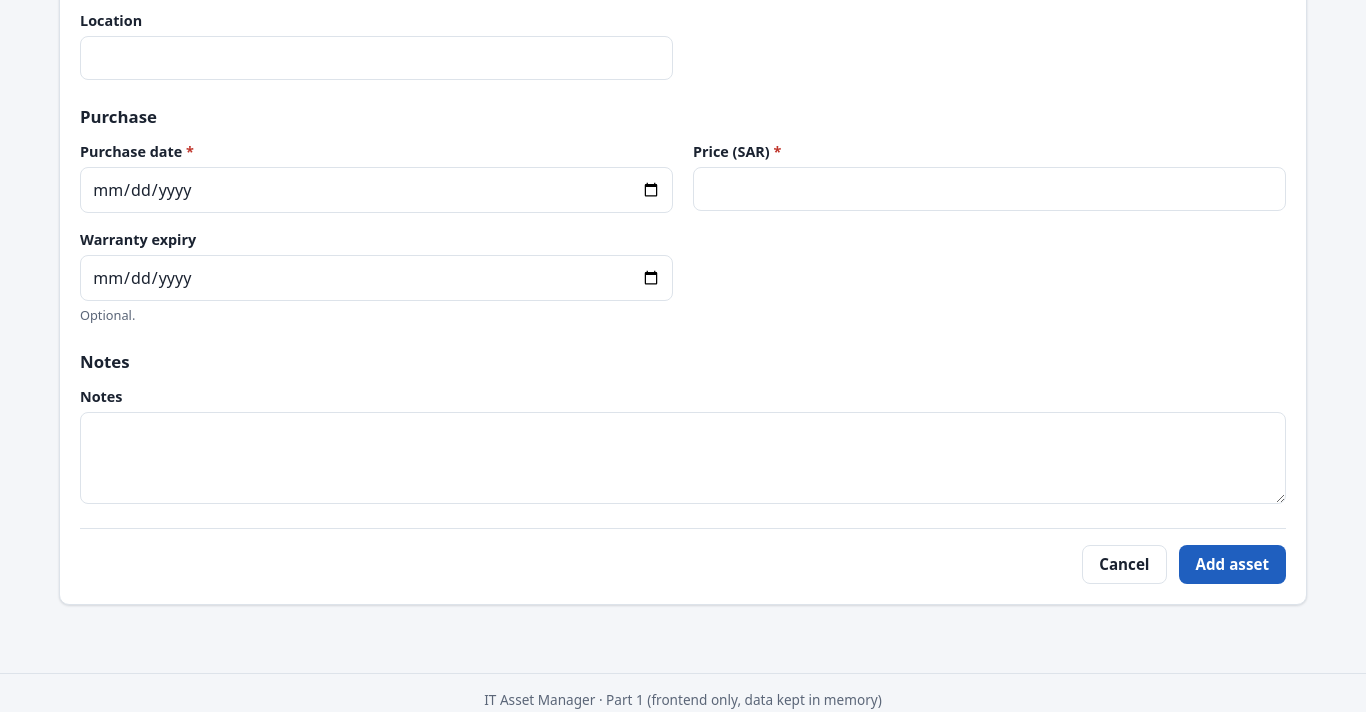
Scenario: add assets › goes back to the list when Cancel is clicked
The image size is (1366, 712).
(page scrolled)
Click the button "Cancel": (1124, 565) [1082, 545, 1167, 584]
(page scrolled)
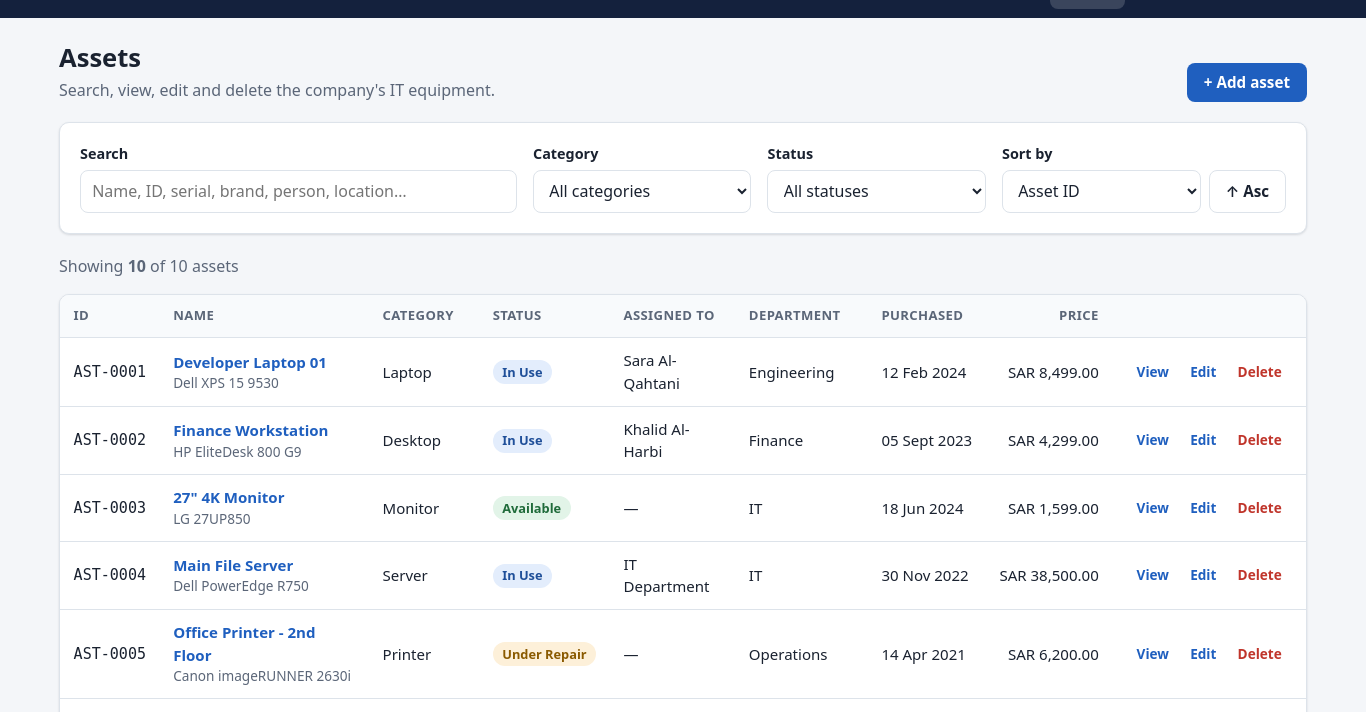
Expected: the heading "Assets" is shown, [59, 40, 141, 75]
